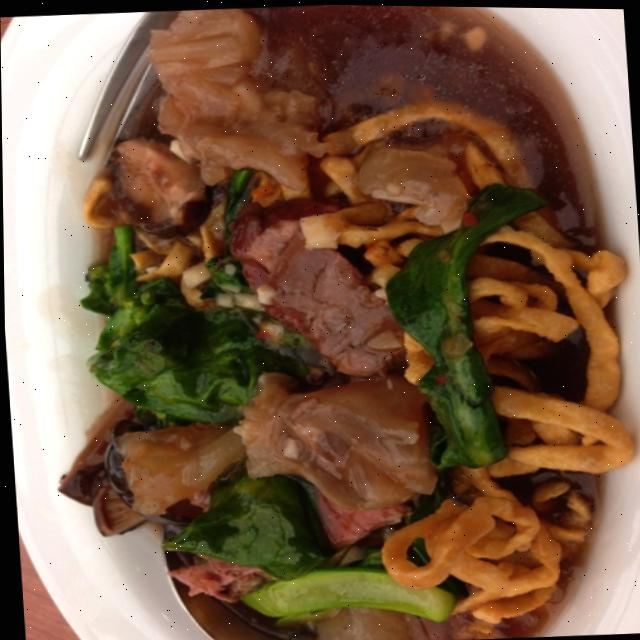面条主食: (27, 0, 639, 640)
